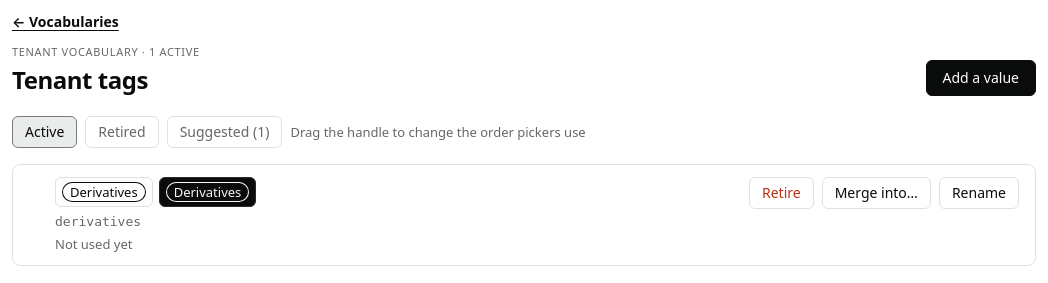
Test: the suggestions waiting on a tenant list › counts them on the tab and lists each with who suggested it, when, and why
The image size is (1048, 283).
What coordinates should you click on to do the following:
click the button "Suggested (1)"
I would click on:
 (224, 132)
Its box is [167, 116, 282, 148].
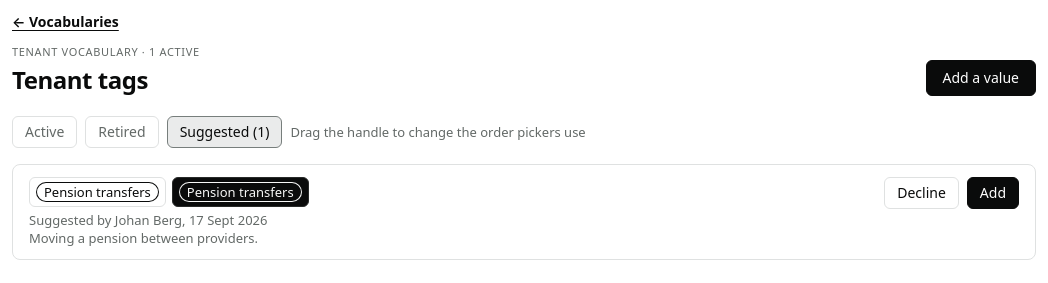
Expected: the 1st text "Pension transfers" is shown, [36, 182, 159, 202]
Expected: the text "Suggested by Johan Berg, 17 Sept 2026" is shown, [29, 211, 267, 229]
Expected: the text "Moving a pension between providers." is shown, [29, 229, 258, 247]
